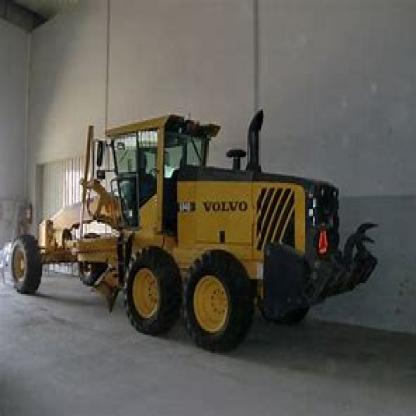bull_dozer/loader/grader: (5, 107, 372, 357)
